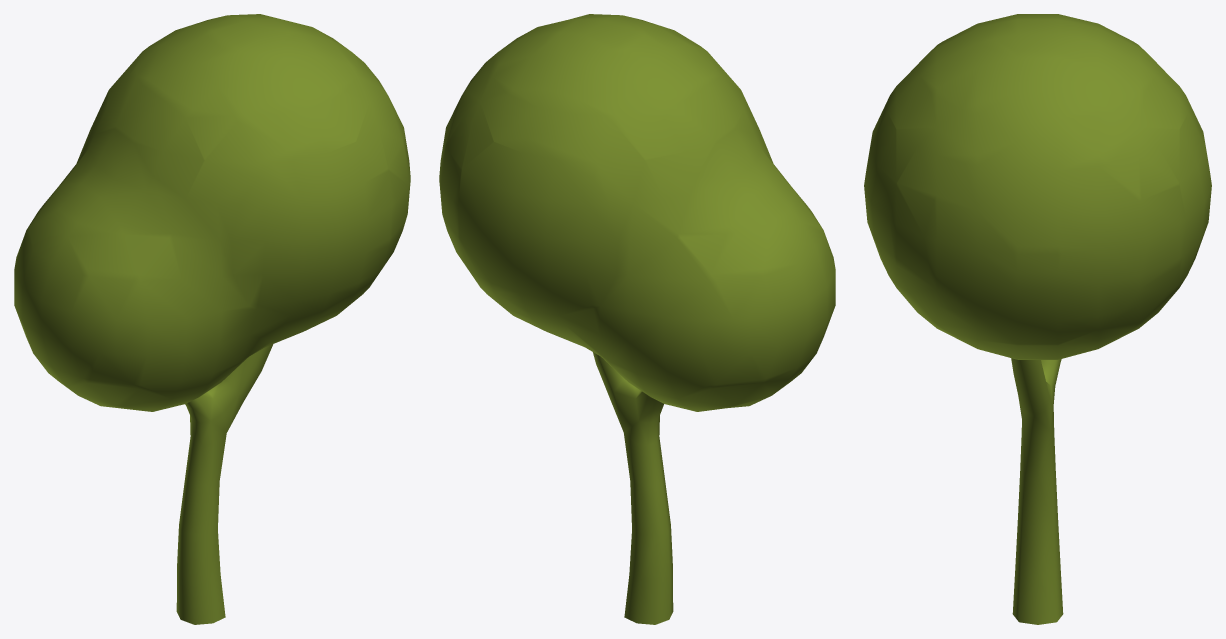
File: SM_Tree_4.fbx
3 views of the same model, side by side, from view 1: azimuth 30°, elevation 25°; view 2: azimuth 150°, elevation 25°; view 3: azimuth 270°, elevation 25° (orthographic). The views are drawn at different scales.
Visible parts, largest first — view 1: SM_Tree_4; view 2: SM_Tree_4; view 3: SM_Tree_4.
Boxes of the visible parts, left/top/right/bottom form: SM_Tree_4: left=14, top=14, right=410, bottom=624; SM_Tree_4: left=439, top=14, right=835, bottom=624; SM_Tree_4: left=864, top=14, right=1211, bottom=624.
Bounding box in the file's own units: 3.3 × 5.08 × 2.63.
